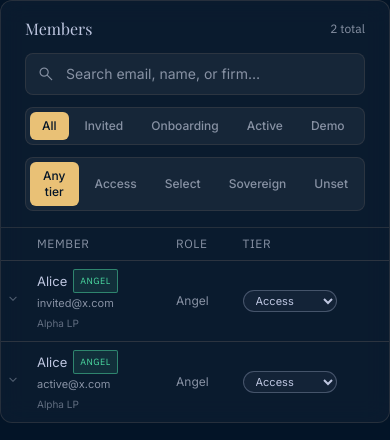
<MembersTable /> — filtering › filters by status
The width and height of the screenshot is (390, 440).
Click the button "Invited".
click(104, 126)  # box [73,112,135,140]
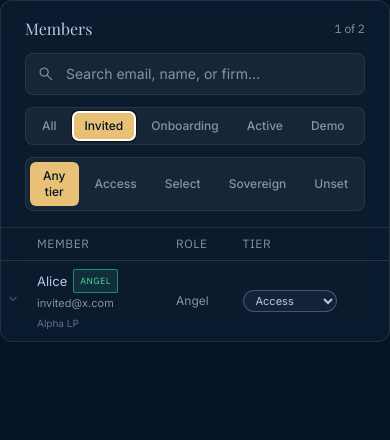
Expected: the text "invited@x.com" is shown, [37,296,114,310]
Expected: the text "active@x.com" is gone
